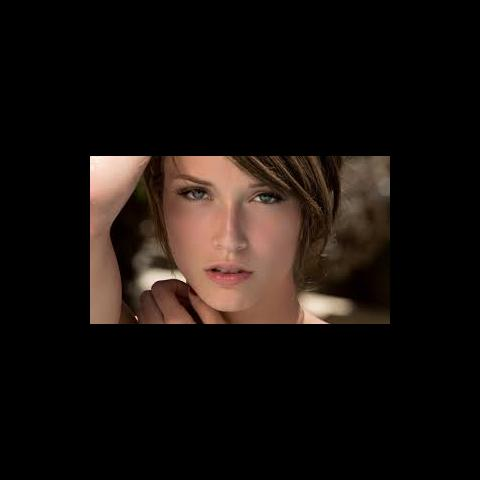opened: (172, 170, 290, 218)
